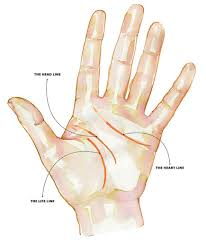palm: (56, 97, 160, 189)
